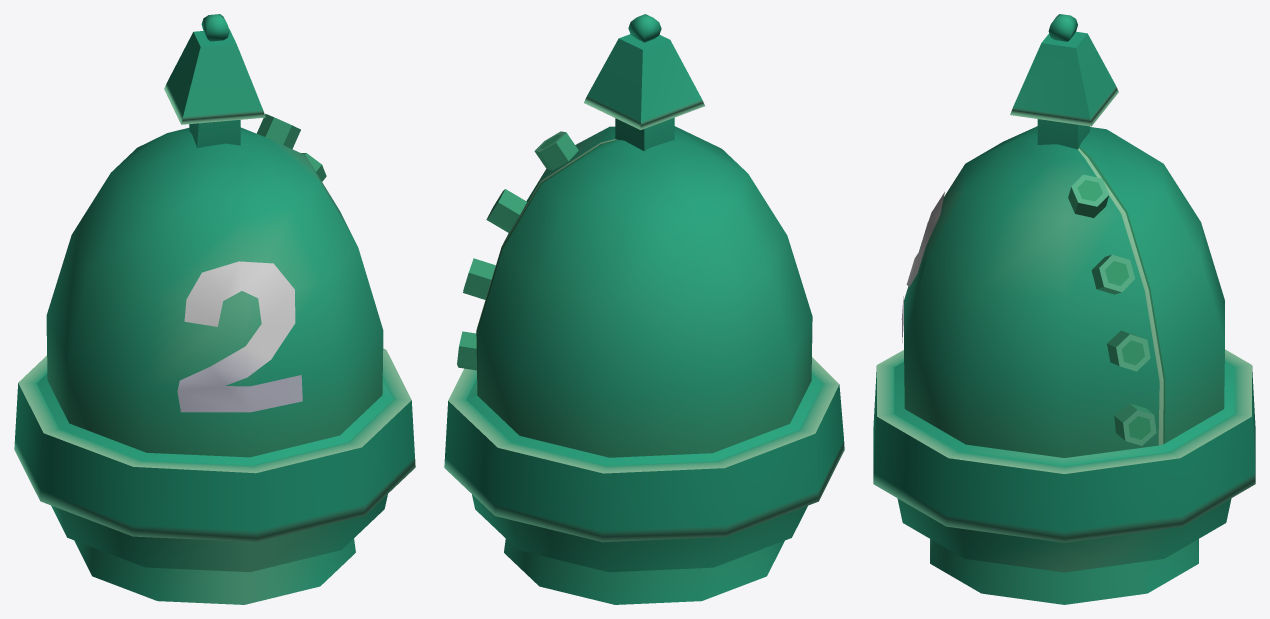
The model's file is buoyTwo.glb.
3 views of the same model, side by side, from view 1: azimuth 30°, elevation 25°; view 2: azimuth 150°, elevation 25°; view 3: azimuth 270°, elevation 25° (orthographic).
Parts seen in each view (by area): view 1: buoyTwo; view 2: buoyTwo; view 3: buoyTwo.
Boxes of the visible parts, x1,y1,x2,y2 form: buoyTwo: (14, 14, 415, 604); buoyTwo: (444, 14, 844, 604); buoyTwo: (873, 14, 1255, 604).
Size of the model in its own units: 0.6018 by 0.8748 by 0.5724.
